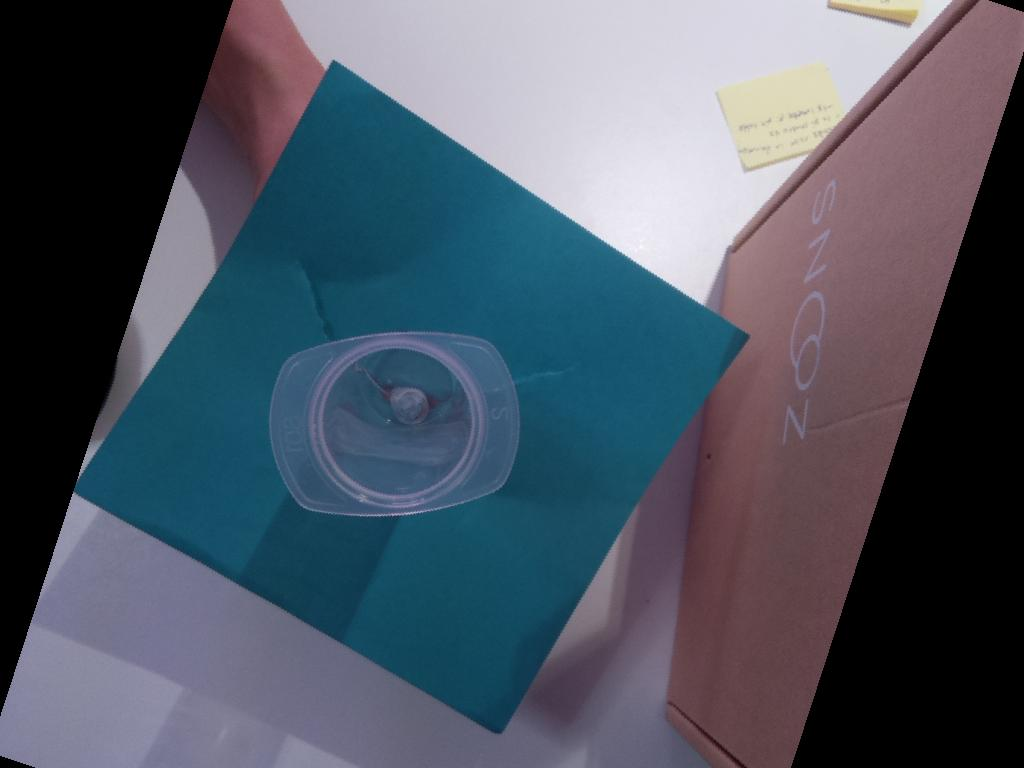clean: (268, 332, 523, 517)
